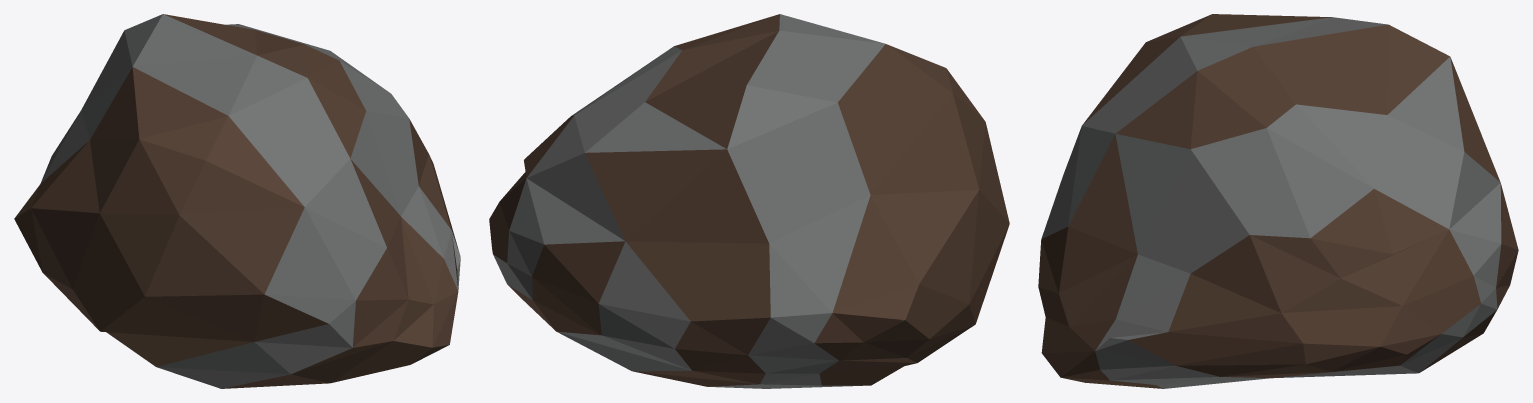
File: Natural_F.fbx
3 views of the same model, side by side, from view 1: azimuth 30°, elevation 25°; view 2: azimuth 150°, elevation 25°; view 3: azimuth 270°, elevation 25° (orthographic). The views are drawn at different scales.
Parts seen in each view (by area): view 1: Cube; view 2: Cube; view 3: Cube.
Boxes of the visible parts, left/top/right/bottom form: Cube: left=14, top=14, right=460, bottom=388; Cube: left=489, top=14, right=1009, bottom=388; Cube: left=1038, top=14, right=1518, bottom=388.
Size of the model in its own units: 2 by 1.5 by 2.
